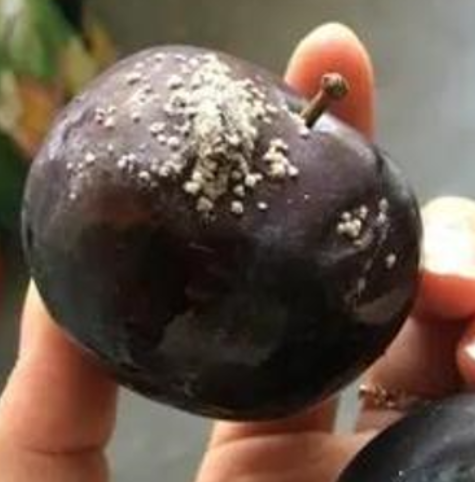plum_C: (18, 43, 421, 421)
